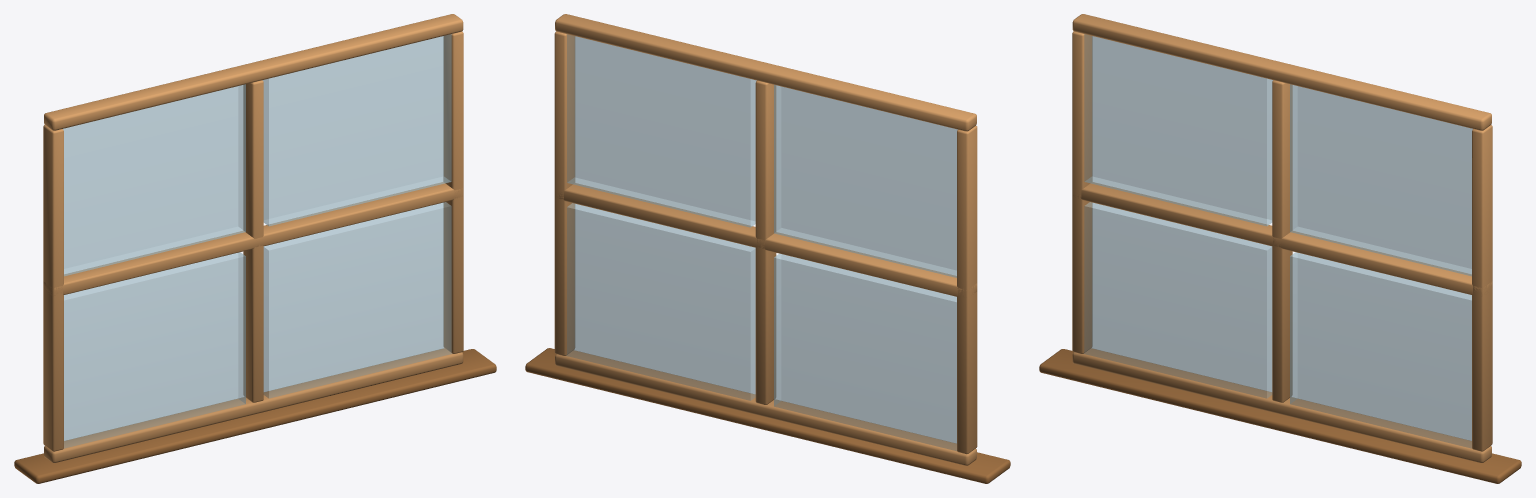
Rendered from env_window_v2.glb.
3 renders of one model, left to right at view 1: azimuth 30°, elevation 25°; view 2: azimuth 150°, elevation 25°; view 3: azimuth 330°, elevation 25°, orthographic.
Parts seen in each view (by area): view 1: WindowV2; view 2: WindowV2; view 3: WindowV2.
Boxes of the visible parts, box(x1,y1,x2,y2) form: WindowV2: box(14, 14, 496, 483); WindowV2: box(525, 14, 1010, 483); WindowV2: box(1039, 14, 1521, 483).
Size of the model in its own units: 5.6 by 4.1 by 0.5.
